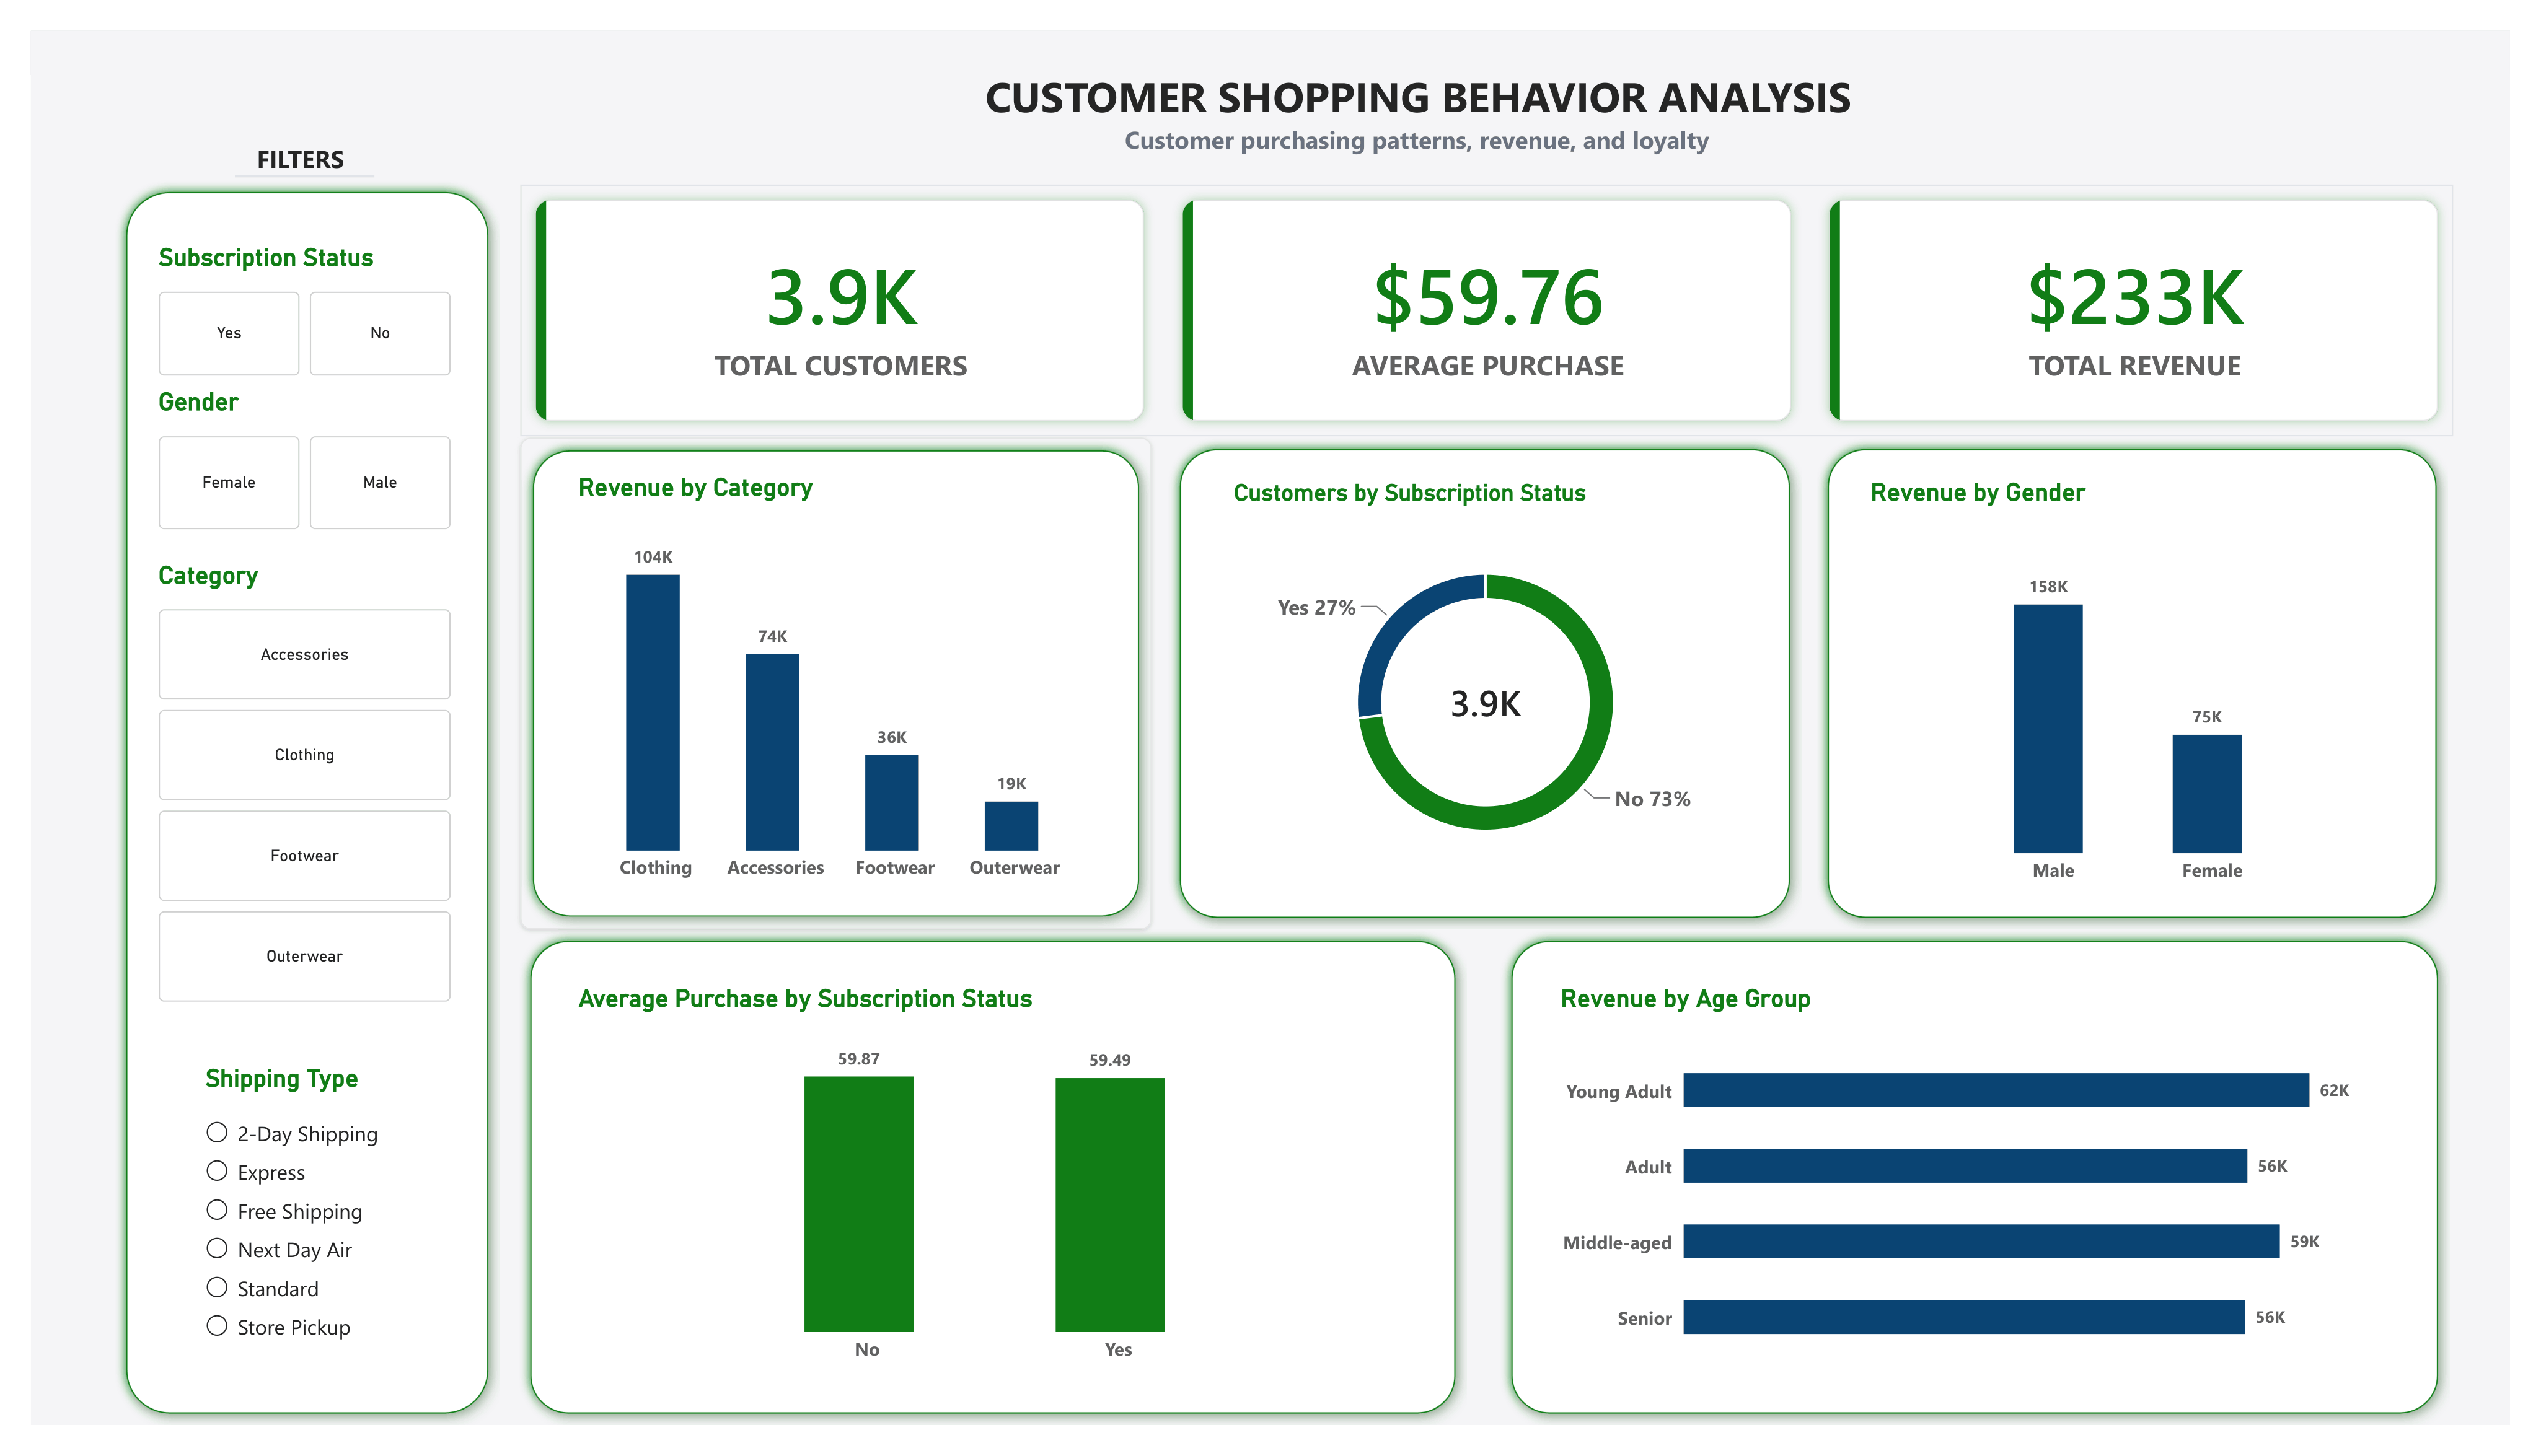

What the dashboard file says about the page in this screenshot:
{"tool":"powerbi","page":{"name":"Customer & Revenue Overview","canvas":[1920,1080],"ordinal":0},"visuals":[{"type":"cardVisual","fields":{"Data":["public customer.Number of Customers","public customer.Average Purchase Amount","Sum(public customer.purchase_amount)"]},"box":[378.7,119.1,1497.9,195.7],"z":0},{"type":"textbox","box":[738.7,28.1,682.6,43.2],"z":1000},{"type":"shape","box":[378.7,314.9,489.4,380.9],"z":2000},{"type":"shape","box":[64.8,116.2,297.9,963.8],"z":3000},{"type":"shape","box":[881.3,315.4,489.4,380.9],"z":4000},{"type":"shape","box":[1383,314.9,489.4,380.9],"z":5000},{"type":"clusteredColumnChart","title":"Revenue by Category","fields":{"Category":["public customer.category"],"Y":["Sum(public customer.purchase_amount)"]},"box":[408.2,328.3,429.8,351.1],"z":6000},{"type":"clusteredColumnChart","title":"Revenue by Gender","fields":{"Category":["public customer.gender"],"Y":["Sum(public customer.purchase_amount)"]},"box":[1408.5,331.9,438.3,348.9],"z":7000},{"type":"advancedSlicerVisual","title":"Subscription Status","fields":{"Values":["public customer.subscription_status"]},"box":[99.4,163.7,226.8,103.7],"z":8000},{"type":"advancedSlicerVisual","title":"Gender","fields":{"Values":["public customer.gender"]},"box":[99.4,276,226.8,110.2],"z":9000},{"type":"advancedSlicerVisual","title":"Category","fields":{"Values":["public customer.category"]},"box":[99.4,409.9,226.8,343.4],"z":10000},{"type":"listSlicer","title":"Shipping Type","fields":{"Values":["public customer.shipping_type"]},"box":[118.8,785.8,187.9,252.7],"z":11000},{"type":"shape","box":[378,695.5,734.4,384.5],"z":12000},{"type":"shape","box":[1138.3,695.5,734.4,384.5],"z":13000},{"type":"clusteredColumnChart","title":"Average Purchase by Subscription Status","fields":{"Category":["public customer.subscription_status"],"Y":["Avg(public customer.purchase_amount)"]},"box":[408.2,723.6,673.9,328.3],"z":14000},{"type":"textbox","box":[738.7,71.3,669.6,30.2],"z":15000},{"type":"textbox","box":[175,86.4,75.6,30.2],"z":16000},{"type":"shape","box":[157.7,101.5,108,21.6],"z":17000},{"type":"clusteredBarChart","title":"Revenue by Age Group","fields":{"Category":["public customer.age_group"],"Y":["Sum(public customer.purchase_amount)"]},"box":[1168.6,723.6,673.9,328.3],"z":18000},{"type":"donutChart","title":"Customers by Subscription Status","fields":{"Category":["public customer.subscription_status"],"Y":["CountNonNull(public customer.customer_id)"]},"box":[915.8,332.6,421.2,339.1],"z":19000}]}

Visuals, with their boxes on the page's 1920x1080 design canvas (x1, y1, x2, y2). These are canvas units, not pixel positions in the 2541x1456 screenshot, which may show the page scaled, cropped or inside an application window:
cardVisual - public customer.Number of Customers x public customer.Average Purchase Amount: bbox=[379, 119, 1877, 315]
textbox: bbox=[739, 28, 1421, 71]
shape: bbox=[379, 315, 868, 696]
shape: bbox=[65, 116, 363, 1080]
shape: bbox=[881, 315, 1371, 696]
shape: bbox=[1383, 315, 1872, 696]
"Revenue by Category" clusteredColumnChart: bbox=[408, 328, 838, 679]
"Revenue by Gender" clusteredColumnChart: bbox=[1408, 332, 1847, 681]
"Subscription Status" advancedSlicerVisual: bbox=[99, 164, 326, 267]
"Gender" advancedSlicerVisual: bbox=[99, 276, 326, 386]
"Category" advancedSlicerVisual: bbox=[99, 410, 326, 753]
"Shipping Type" listSlicer: bbox=[119, 786, 307, 1038]
shape: bbox=[378, 696, 1112, 1080]
shape: bbox=[1138, 696, 1873, 1080]
"Average Purchase by Subscription Status" clusteredColumnChart: bbox=[408, 724, 1082, 1052]
textbox: bbox=[739, 71, 1408, 102]
textbox: bbox=[175, 86, 251, 117]
shape: bbox=[158, 102, 266, 123]
"Revenue by Age Group" clusteredBarChart: bbox=[1169, 724, 1842, 1052]
"Customers by Subscription Status" donutChart: bbox=[916, 333, 1337, 672]
